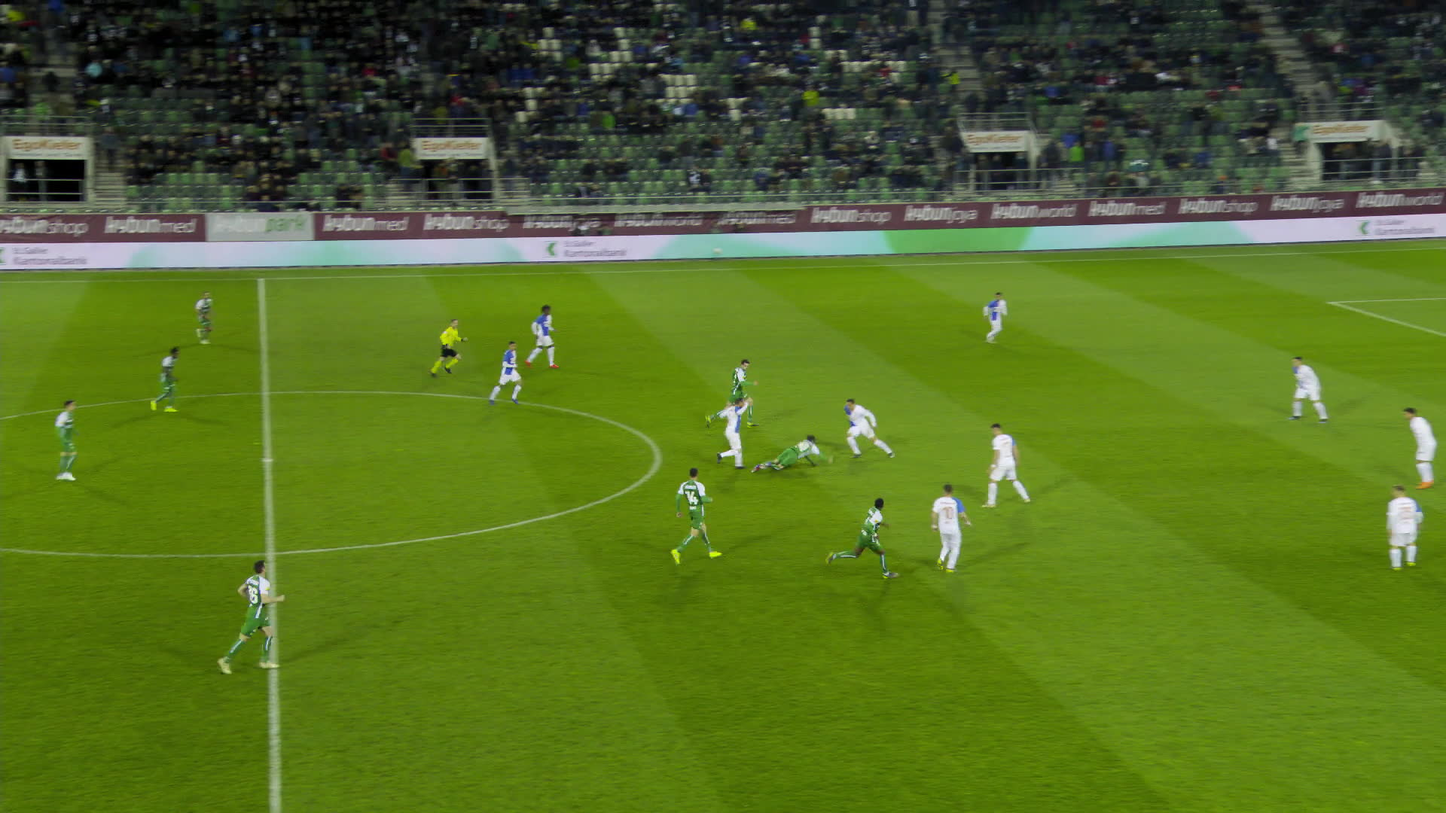ball: (776, 458, 788, 470)
player: (218, 555, 292, 682), (828, 483, 900, 597), (674, 458, 718, 571), (50, 400, 99, 483), (984, 417, 1027, 510), (839, 390, 896, 458), (1395, 486, 1438, 573), (708, 357, 758, 431), (752, 426, 828, 473), (935, 486, 973, 573), (1286, 352, 1330, 425), (723, 390, 755, 467), (150, 346, 187, 412), (490, 340, 528, 404), (526, 303, 562, 370), (1414, 408, 1444, 487), (983, 286, 1021, 348), (188, 288, 220, 345)
referee: (428, 318, 474, 378)
